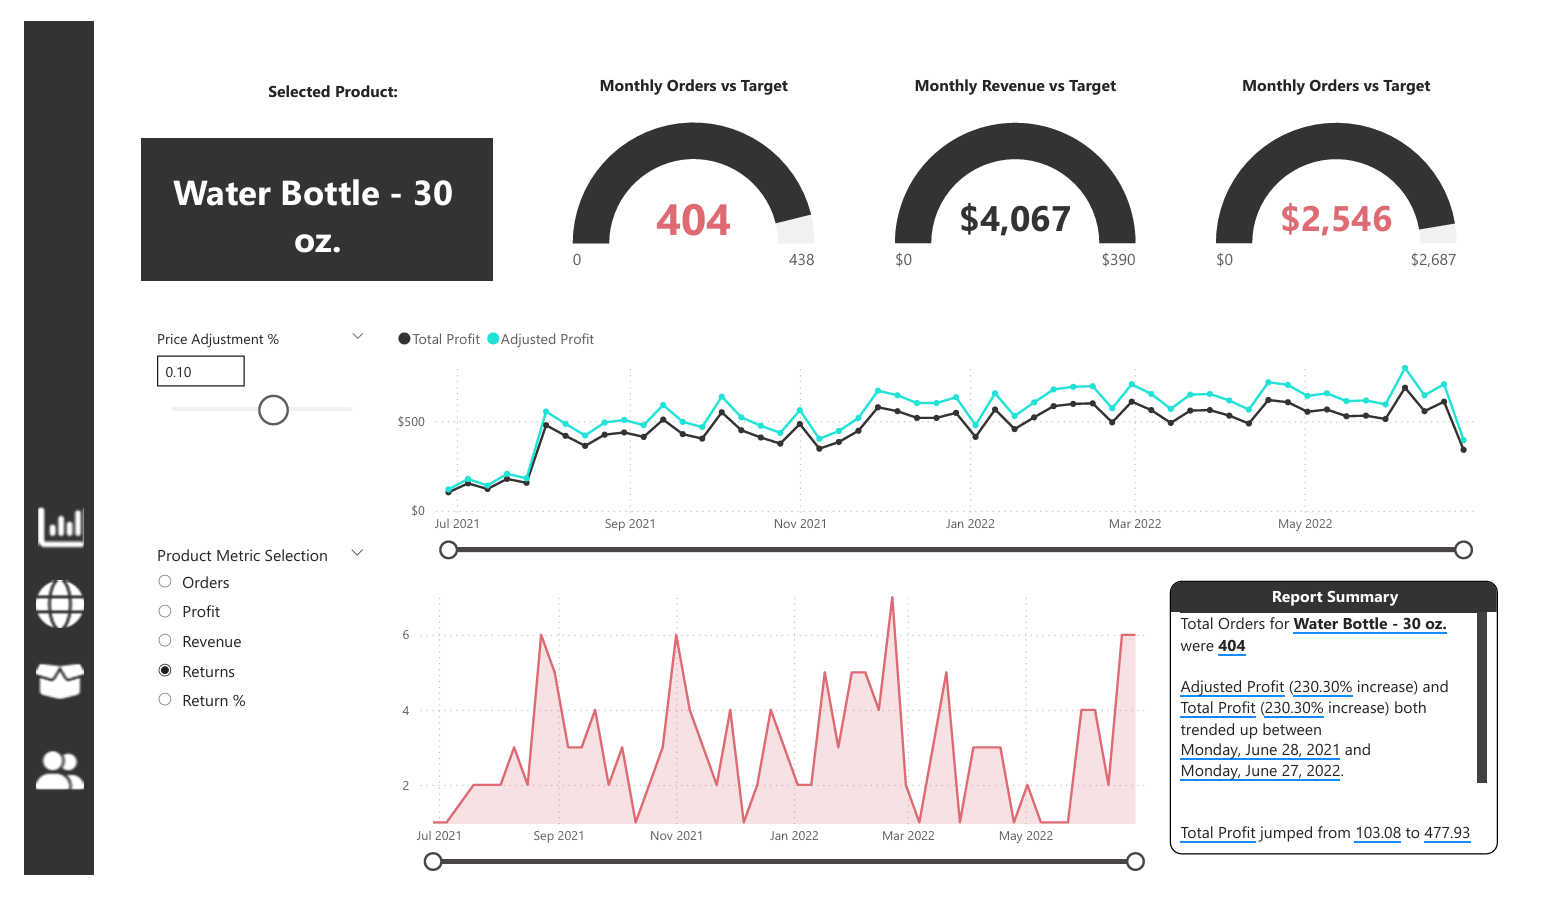

Layout of this report page (visuals, bound fields, positions):
{"tool":"powerbi","page":{"name":"Product Detail","canvas":[1280,720],"ordinal":2},"visuals":[{"type":"shape","box":[0,0,59.5,719.7],"z":0},{"type":"gauge","title":"Monthly Orders vs Target","fields":{"Y":["Measure Table.Total Orders"],"MaxValue":["Measure Table.Order Target"]},"box":[458.5,44.9,213.7,192.1],"z":1000},{"type":"actionButton","box":[5.9,466,47.6,51.5],"z":1000,"group":"g1"},{"type":"gauge","title":"Monthly Orders vs Target","fields":{"Y":["Measure Table.Total Profit"],"MaxValue":["Measure Table.Profit Target"]},"box":[1000.6,44.9,213.7,192.1],"z":2000},{"type":"actionButton","box":[5.9,608.7,53.5,47.6],"z":2000,"group":"g1"},{"type":"gauge","title":"Monthly Revenue vs Target","fields":{"Y":["Measure Table.Total Revenue"],"MaxValue":["Measure Table.Revenue Target"]},"box":[729.5,44.9,213.7,192.1],"z":3000},{"type":"actionButton","box":[5.9,533.4,53.5,47.6],"z":3000,"group":"g1"},{"type":"lineChart","title":"Profit Trending","fields":{"Category":["Calendar Lookup.Date Hierarchy.Start of Year","Calendar Lookup.Date Hierarchy.Start of Month","Calendar Lookup.Date Hierarchy.Start of Week","Calendar Lookup.Date Hierarchy.Date"],"Y":["Measure Table.Total Profit","Measure Table.Adjusted Profit"]},"box":[309.8,247.8,934,209.1],"z":4000},{"type":"actionButton","box":[7.8,397.4,45.6,59.5],"z":5000,"group":"g1"},{"type":"areaChart","title":"Returns Trending","fields":{"Y":["Measure Table.Total Returns"],"Category":["Calendar Lookup.Date Hierarchy.Start of Year","Calendar Lookup.Date Hierarchy.Start of Month","Calendar Lookup.Date Hierarchy.Start of Week","Calendar Lookup.Date Hierarchy.Date"]},"box":[309.8,472.4,656.7,247.8],"z":5000},{"type":"card","fields":{"Values":["Min(Product Lookup.ProductName)"]},"box":[99.1,99.1,297.3,119.7],"z":6000},{"type":"textbox","box":[111.5,44.9,297.4,54.2],"z":7000},{"type":"group","id":"g1","title":"Navigation Buttons","box":[5.9,397.4,53.5,258.9],"z":8000},{"type":"slicer","fields":{"Values":["Price Adjustment %.Price Adjustment %"]},"box":[99.1,253.6,199.5,144.2],"z":9000},{"type":"slicer","fields":{"Values":["Product Metric Selection.Product Metric Selection"]},"box":[99.1,436.4,199.5,172.5],"z":10000},{"type":"textbox","title":"Report Summary ","box":[966.5,472.4,277.3,230.8],"z":11000}]}

Visuals, with their boxes on the page's 1280x720 design canvas (x1, y1, x2, y2). These are canvas units, not pixel positions in the 1566x904 screenshot, which may show the page scaled, cropped or inside an application window:
shape: bbox(0, 0, 60, 720)
"Monthly Orders vs Target" gauge: bbox(458, 45, 672, 237)
actionButton: bbox(6, 466, 54, 518)
"Monthly Orders vs Target" gauge: bbox(1001, 45, 1214, 237)
actionButton: bbox(6, 609, 59, 656)
"Monthly Revenue vs Target" gauge: bbox(730, 45, 943, 237)
actionButton: bbox(6, 533, 59, 581)
"Profit Trending" lineChart: bbox(310, 248, 1244, 457)
actionButton: bbox(8, 397, 53, 457)
"Returns Trending" areaChart: bbox(310, 472, 966, 720)
card - Min(Product Lookup.ProductName): bbox(99, 99, 396, 219)
textbox: bbox(112, 45, 409, 99)
"Navigation Buttons" group: bbox(6, 397, 59, 656)
slicer - Price Adjustment %.Price Adjustment %: bbox(99, 254, 299, 398)
slicer - Product Metric Selection.Product Metric Selection: bbox(99, 436, 299, 609)
"Report Summary " textbox: bbox(966, 472, 1244, 703)
